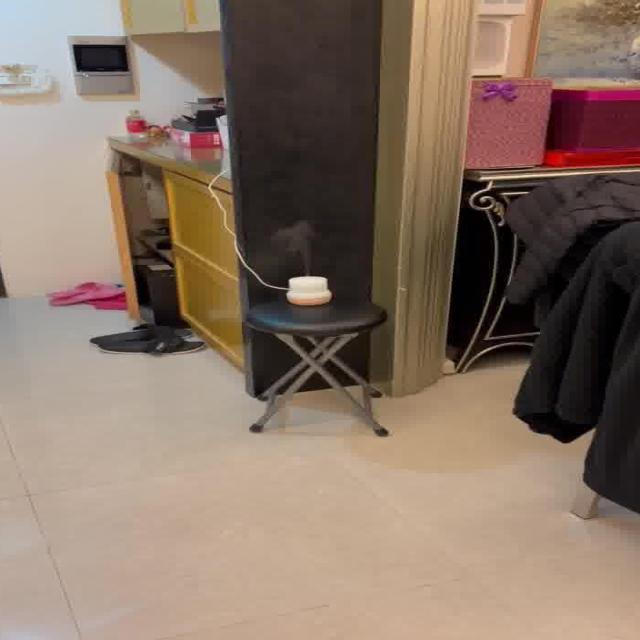fire: (263, 217, 322, 270)
